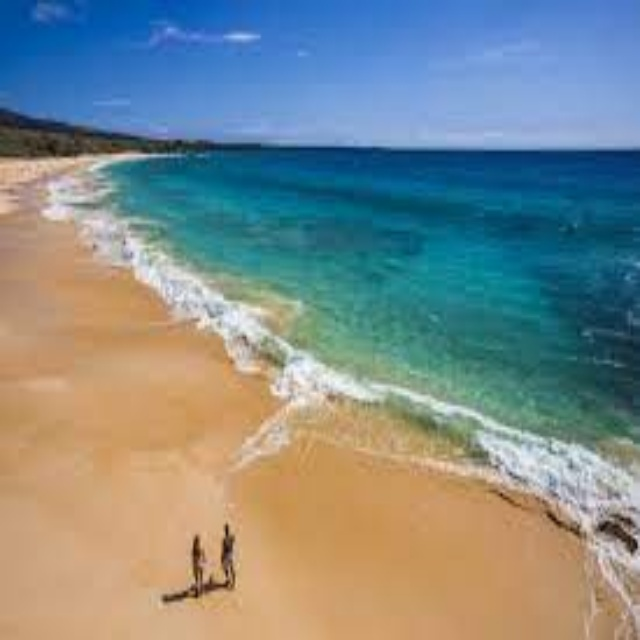linhaEspraiamento: (14, 166, 626, 539)
